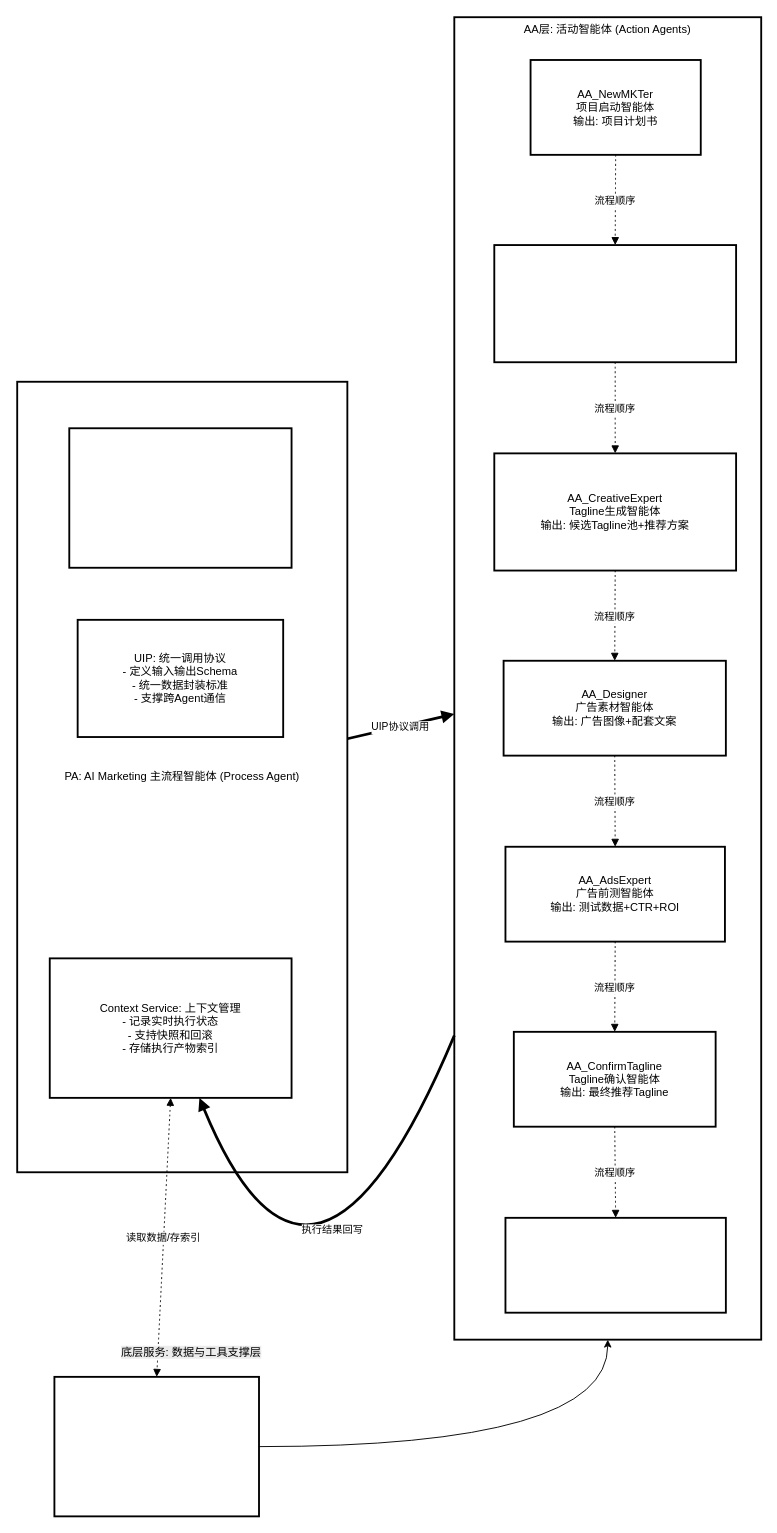
Some shapes in this 777 by 1533 pixel diagram are drawn without their labels. Here are the shapes that lost their labels. From the top down, the centre of each, then its label:
At point 615,303: "AA_InsightExpert 营销洞察智能体 输出: 用户洞察+竞品洞察报告".
At point 180,497: "Main Loop: 统一调度循环 - 按阶段激活AA智能体 - 汇总全局上下文 - 监控执行状态 - 触发UIP调用".
At point 615,1264: "AA_CampaignPlanner 传播策略智能体 输出: Campaign传播报告".
At point 156,1446: "数据层 - 外部接口 • BEES: 竞品对标数据 • IMM: 社媒VOC采集 • AMDP: 产品主数据 • Feishu API: 报告生成".
